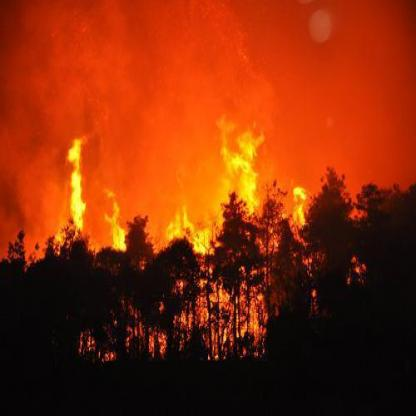fire: (52, 128, 324, 264)
